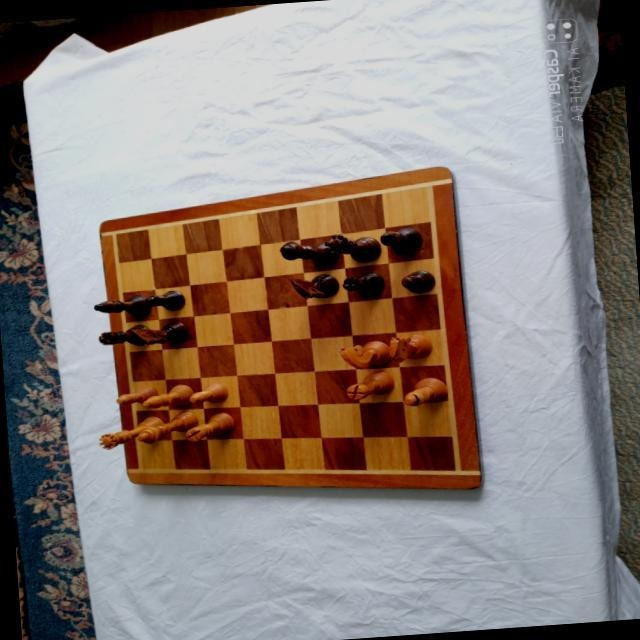black-bishop: (92, 292, 150, 319), (378, 225, 422, 254)
black-king: (277, 236, 339, 268)
black-knight: (129, 319, 187, 345), (288, 272, 340, 300)
black-pawn: (143, 288, 184, 312), (399, 267, 435, 293)
black-queen: (323, 230, 381, 264)
black-rook: (97, 321, 151, 347), (341, 270, 385, 297)
white-bishop: (401, 375, 447, 405), (141, 383, 193, 409)
white-king: (135, 409, 197, 443)
white-knight: (337, 338, 391, 370), (388, 331, 432, 361)
white-pawn: (188, 381, 228, 404), (115, 385, 157, 406)
white-queen: (97, 414, 165, 449)
white-rook: (184, 410, 236, 441), (345, 369, 395, 399)
